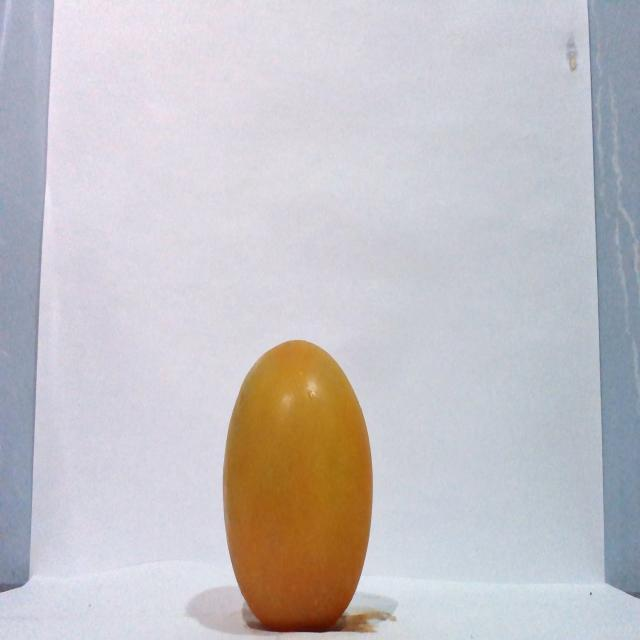Red: (220, 337, 374, 630)
